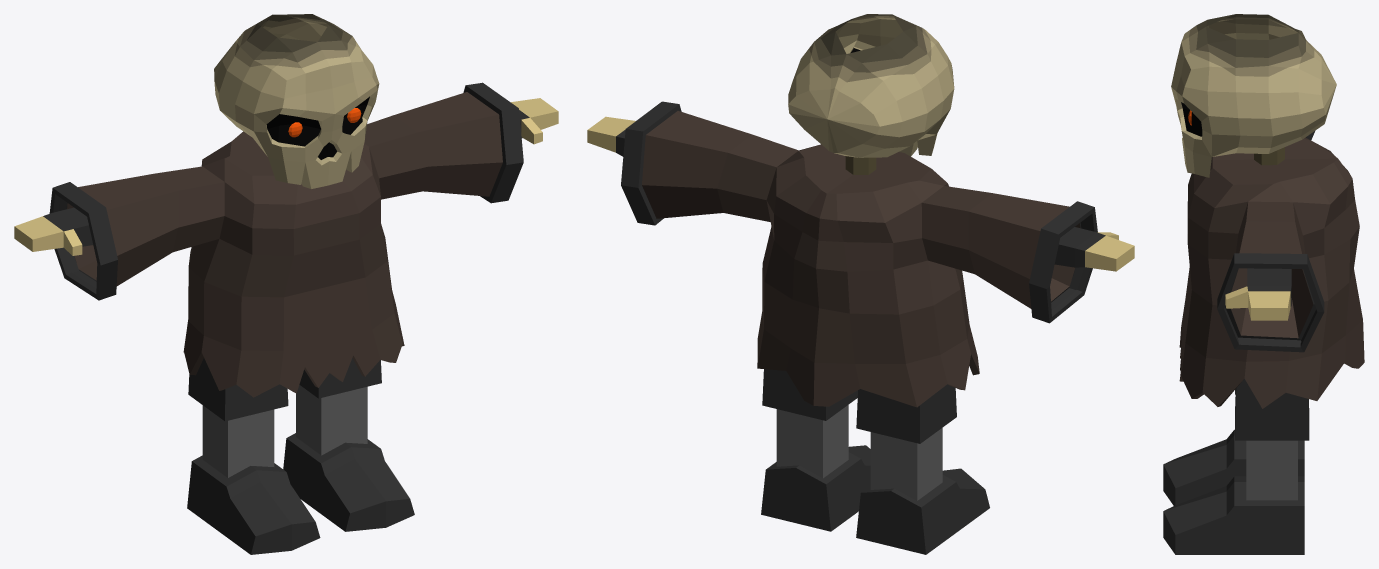
Rendered from IncensarioBase.fbx.
3 renders of one model, left to right at view 1: azimuth 30°, elevation 25°; view 2: azimuth 150°, elevation 25°; view 3: azimuth 270°, elevation 25°, orthographic.
Visible parts, largest first — view 1: feet; view 2: feet; view 3: feet.
Part boxes in pixels (left/top/right/bottom): feet: left=14, top=14, right=558, bottom=554; feet: left=587, top=14, right=1134, bottom=554; feet: left=1163, top=14, right=1364, bottom=554.
Size of the model in its own units: 176 by 154 by 57.51.
2 materials, 2 textured.
